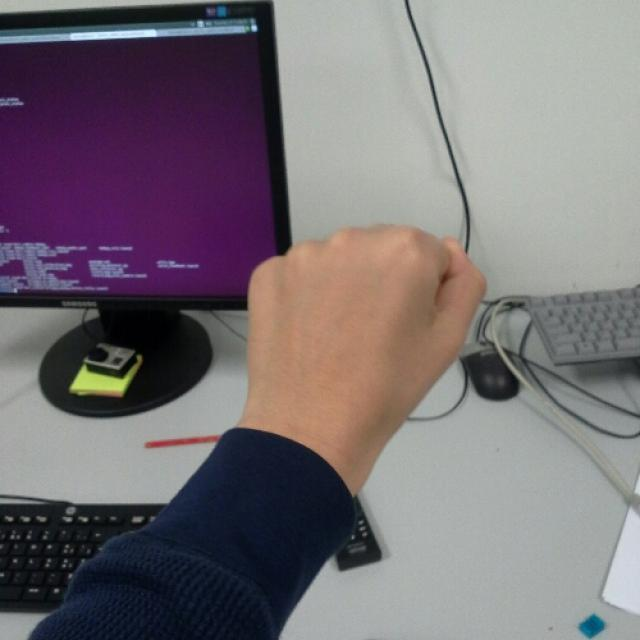fist: (248, 224, 488, 438)
